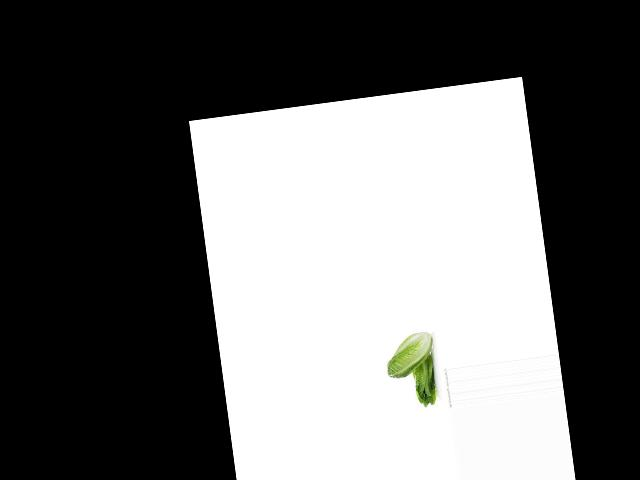lettuce: (405, 353, 445, 408)
